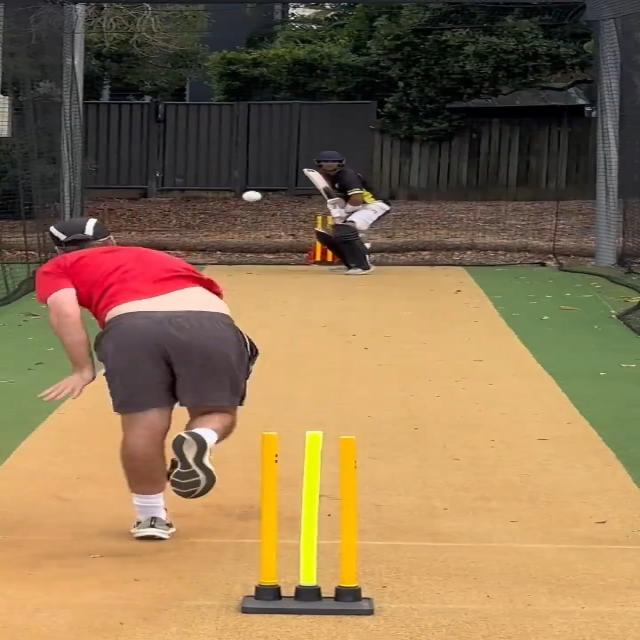ball: (240, 188, 265, 203)
stump: (240, 428, 377, 615)
